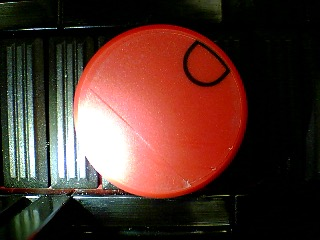MIPO1: (73, 23, 248, 199)
